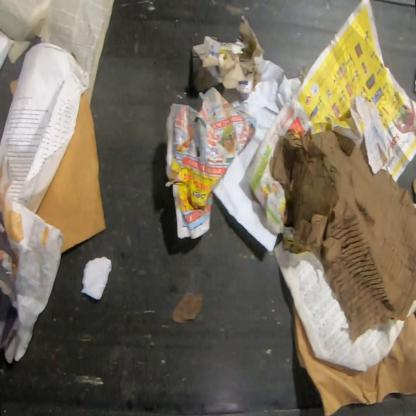cardboard: (271, 130, 415, 343), (293, 299, 415, 415), (36, 90, 107, 254), (9, 80, 18, 98)
